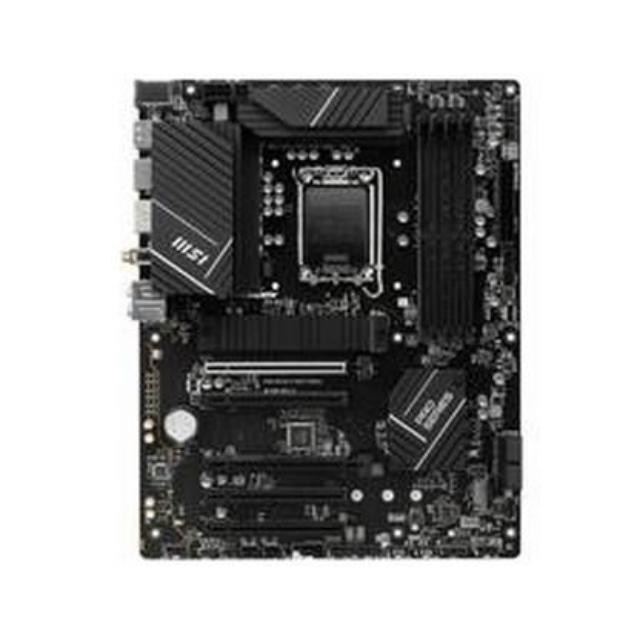Mainboard: (121, 70, 526, 562)
